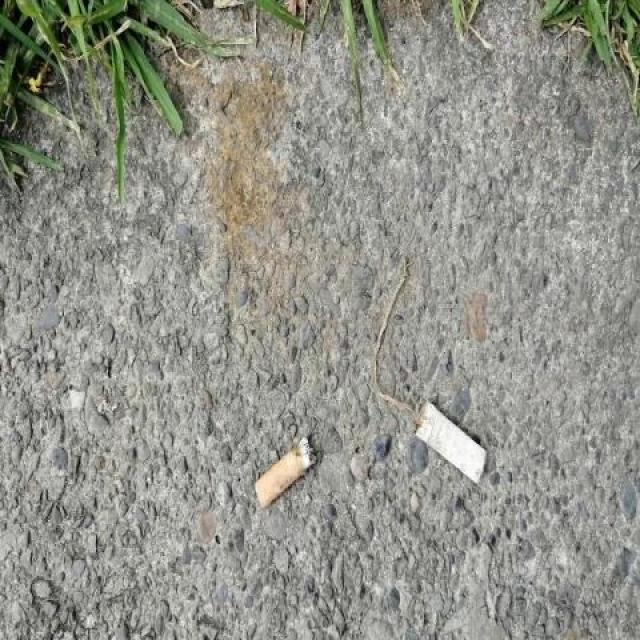non-organic waste: (411, 394, 490, 486), (252, 432, 317, 511)
